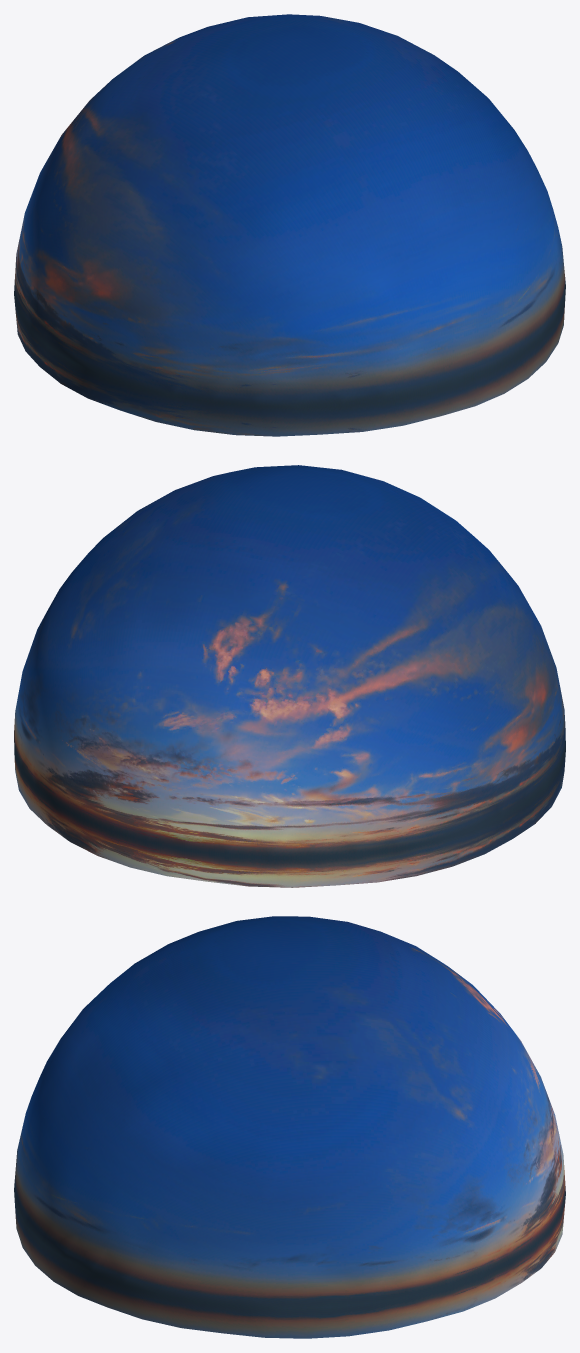
The model's file is sky2.obj.
The picture shows the model from 3 angles, top to bottom: view 1: azimuth 30°, elevation 25°; view 2: azimuth 150°, elevation 25°; view 3: azimuth 270°, elevation 25°; orthographic projection.
Visible parts, largest first — view 1: Sky; view 2: Sky; view 3: Sky.
Part boxes in pixels (left/top/right/bottom): Sky: left=14, top=14, right=565, bottom=436; Sky: left=14, top=465, right=565, bottom=887; Sky: left=14, top=916, right=565, bottom=1338.
Size of the model in its own units: 479 by 270 by 479.
Materials: 1 (1 with a texture image).
